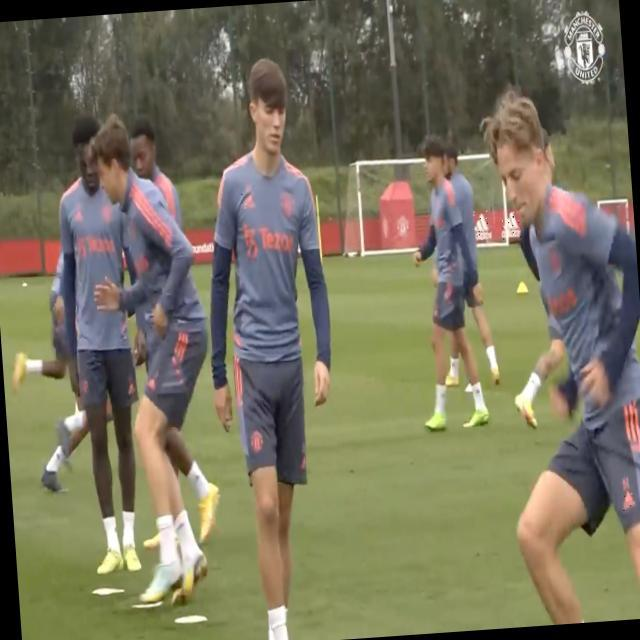Adidas: (499, 208, 521, 240), (473, 209, 492, 242), (622, 491, 636, 512), (241, 191, 255, 209)
